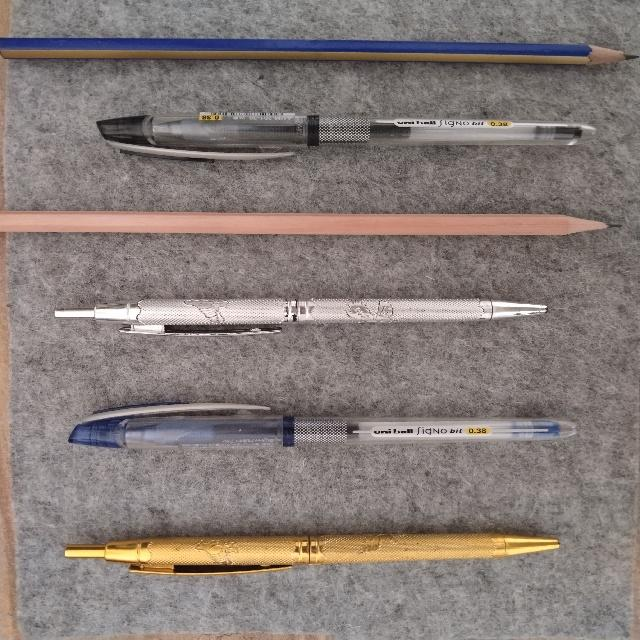pen: (97, 112, 594, 159), (69, 403, 574, 449)
pencil: (0, 38, 636, 64), (0, 211, 608, 235)
signature pen: (65, 533, 558, 574), (55, 298, 546, 335)
